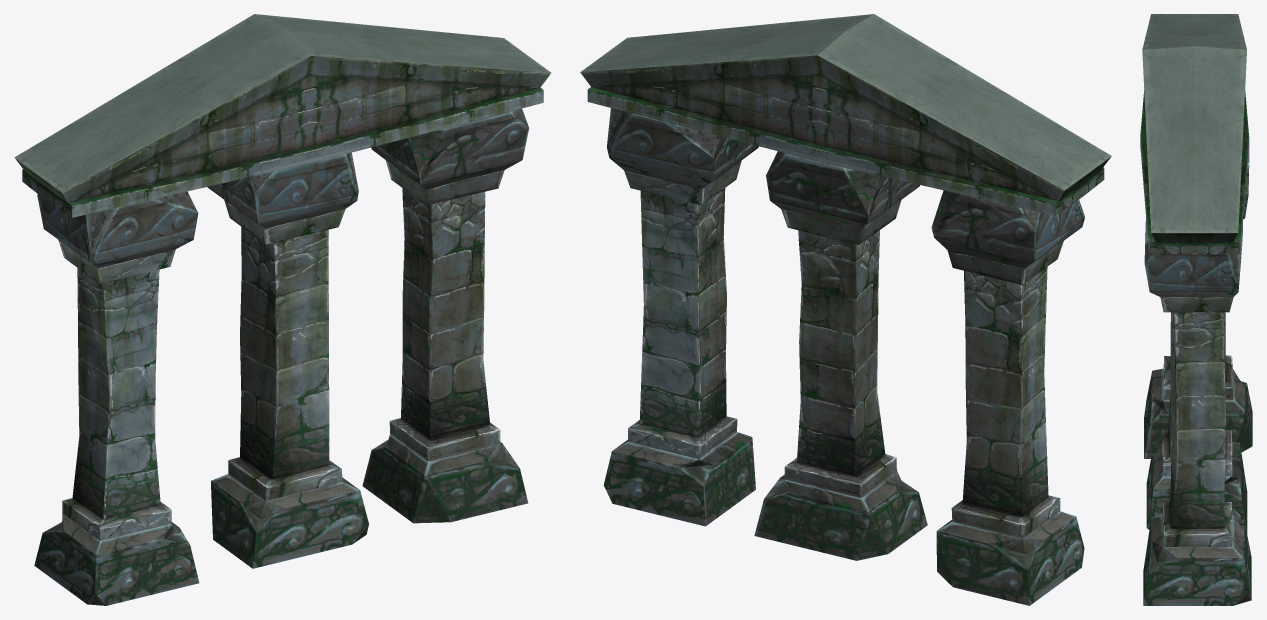
Rendered from stemple_pediment_04.fbx.
The picture shows the model from 3 angles, left to right: view 1: azimuth 30°, elevation 25°; view 2: azimuth 150°, elevation 25°; view 3: azimuth 270°, elevation 25°; orthographic projection. The views are drawn at different scales.
Parts seen in each view (by area): view 1: obj1.068; view 2: obj1.068; view 3: obj1.068.
Boxes of the visible parts, bbox=[...] form: obj1.068: bbox=[14, 14, 550, 605]; obj1.068: bbox=[580, 14, 1111, 605]; obj1.068: bbox=[1140, 14, 1252, 605].
Bounding box in the file's own units: 7.17 × 7.06 × 1.55.
